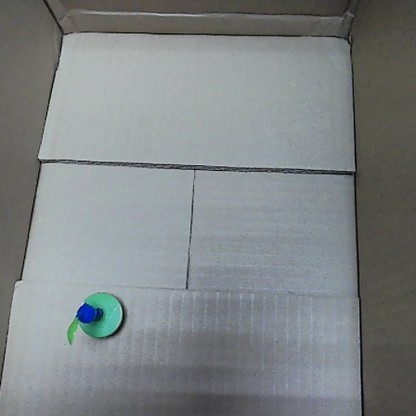leafairy: (62, 287, 129, 347)
